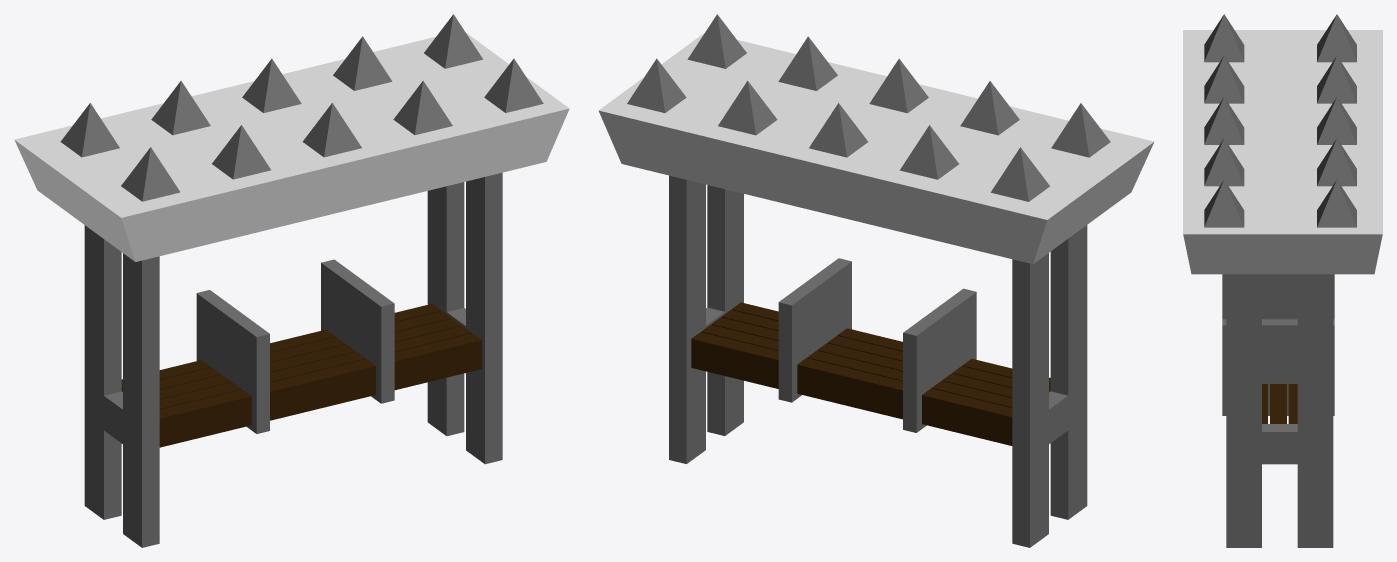
File: BusStopLvl3.fbx
3 views of the same model, side by side, from view 1: azimuth 30°, elevation 25°; view 2: azimuth 150°, elevation 25°; view 3: azimuth 270°, elevation 25° (orthographic). The views are drawn at different scales.
Parts seen in each view (by area): view 1: Cube.085; view 2: Cube.085; view 3: Cube.085.
Part boxes in pixels (x1=…): Cube.085: x1=14, y1=14, x2=569, y2=547; Cube.085: x1=598, y1=14, x2=1153, y2=547; Cube.085: x1=1183, y1=14, x2=1382, y2=547.
Size of the model in its own units: 111 by 94.29 by 45.72.
